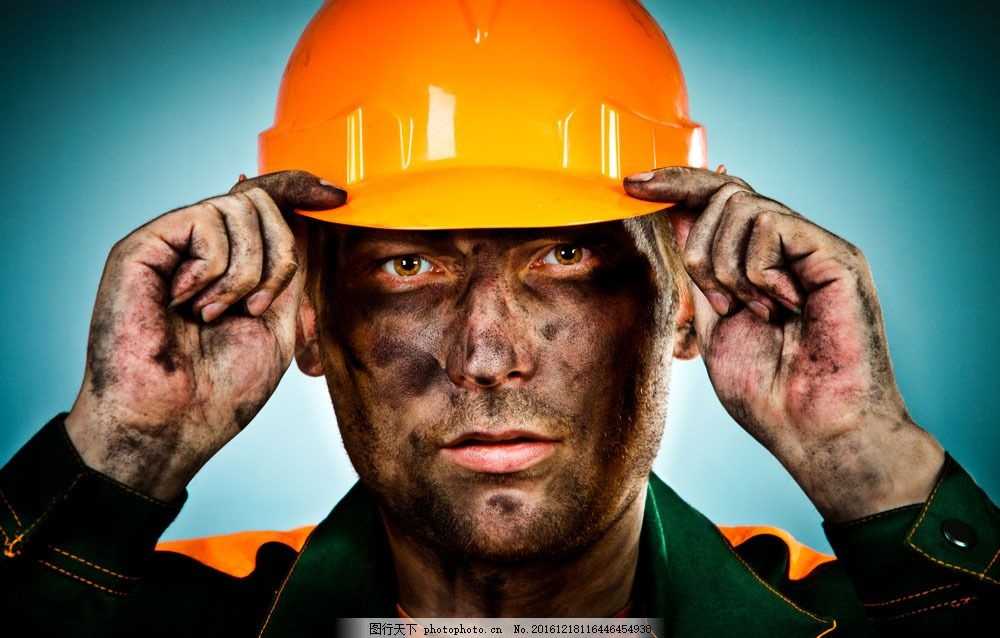yellow: (251, 6, 714, 556)
